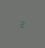two: (19, 20, 24, 27)
